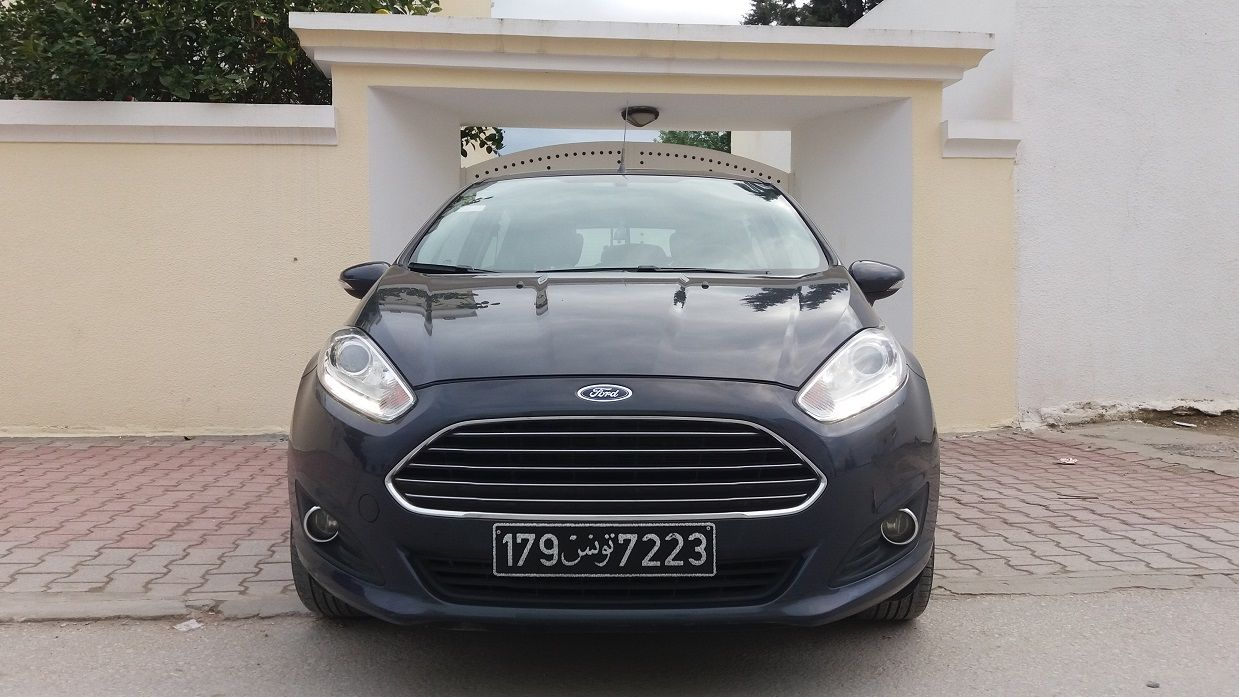LP: (491, 520, 718, 579)
